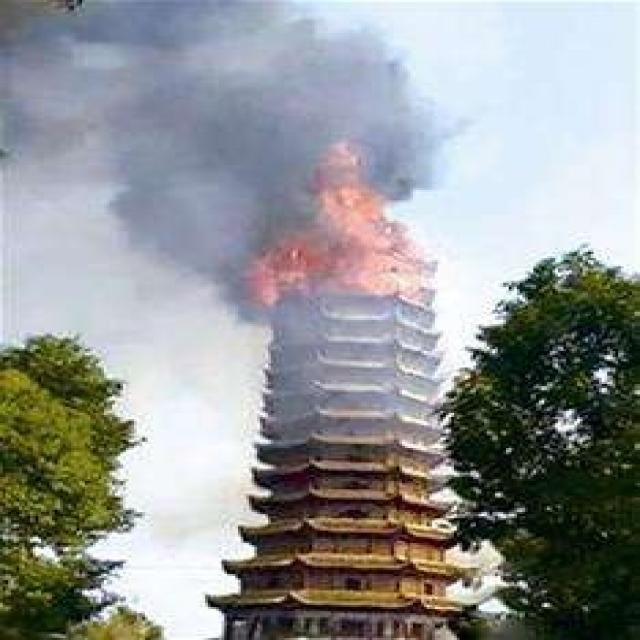fire: (232, 142, 438, 304)
